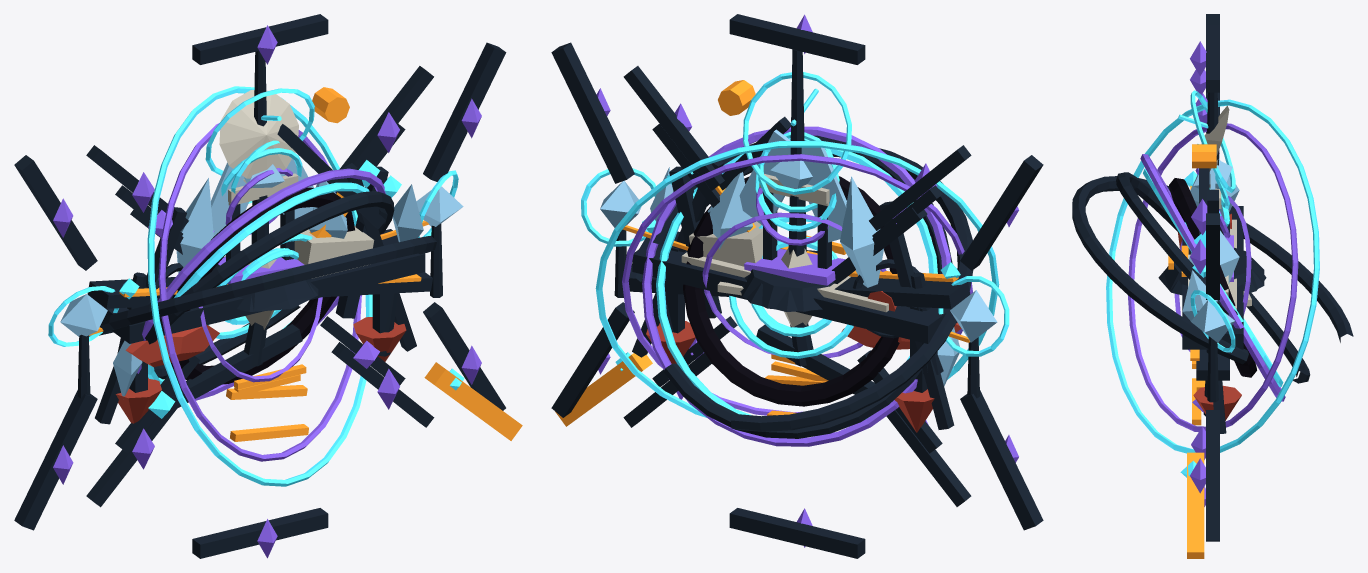
File: outer-route-landmarks-v1-CsTtabCb.glb
3 views of the same model, side by side, from view 1: azimuth 30°, elevation 25°; view 2: azimuth 150°, elevation 25°; view 3: azimuth 270°, elevation 25° (orthographic). The views are drawn at different scales.
Parts seen in each view (by area): view 1: OuterRoute_finale_core_Static_structure, OuterRoute_neptune_Static_structure, OuterRoute_saturn_Static_structure, OuterRoute_ufo_black_hole_Static_structure, OuterRoute_finale_core_Spin_signal, OuterRoute_jupiter_Static_structure, OuterRoute_ufo_black_hole_Spin_violet, OuterRoute_uranus_Spin_ivory, OuterRoute_asteroid_belt_Static_structure, OuterRoute_finale_core_Spin_violet, OuterRoute_finale_core_Static_void, OuterRoute_kuiper_belt_Static_ice (+26 smaller); view 2: OuterRoute_finale_core_Static_structure, OuterRoute_saturn_Static_structure, OuterRoute_neptune_Static_structure, OuterRoute_finale_core_Static_void, OuterRoute_ufo_black_hole_Static_structure, OuterRoute_jupiter_Static_structure, OuterRoute_finale_core_Spin_violet, OuterRoute_finale_core_Spin_signal, OuterRoute_charon_Static_ice, OuterRoute_ufo_black_hole_Spin_violet, OuterRoute_asteroid_belt_Static_structure, OuterRoute_uranus_Static_structure (+24 smaller); view 3: OuterRoute_saturn_Static_structure, OuterRoute_finale_core_Spin_signal, OuterRoute_ufo_black_hole_Spin_violet, OuterRoute_finale_core_Static_structure, OuterRoute_neptune_Static_structure, OuterRoute_finale_core_Spin_violet, OuterRoute_finale_core_Static_hazard, OuterRoute_uranus_Static_structure, OuterRoute_finale_core_Static_void, OuterRoute_finale_core_Static_violet, OuterRoute_jupiter_Static_structure, OuterRoute_kuiper_belt_Static_ice (+14 smaller).
Part boxes in pixels (<box>): OuterRoute_finale_core_Static_structure: <box>14,14,506,558</box>; OuterRoute_neptune_Static_structure: <box>130,166,394,411</box>; OuterRoute_saturn_Static_structure: <box>89,163,436,424</box>; OuterRoute_ufo_black_hole_Static_structure: <box>86,66,434,507</box>; OuterRoute_finale_core_Spin_signal: <box>147,86,372,486</box>; OuterRoute_jupiter_Static_structure: <box>99,229,425,392</box>; OuterRoute_ufo_black_hole_Spin_violet: <box>158,123,361,461</box>; OuterRoute_uranus_Spin_ivory: <box>219,90,298,178</box>; OuterRoute_asteroid_belt_Static_structure: <box>87,272,432,371</box>; OuterRoute_finale_core_Spin_violet: <box>137,168,385,400</box>; OuterRoute_finale_core_Static_void: <box>171,187,354,384</box>; OuterRoute_kuiper_belt_Static_ice: <box>60,164,463,336</box>; OuterRoute_finale_core_Static_structure: <box>551,14,1043,558</box>; OuterRoute_saturn_Static_structure: <box>629,148,973,431</box>; OuterRoute_neptune_Static_structure: <box>653,135,952,438</box>; OuterRoute_finale_core_Static_void: <box>683,176,899,406</box>; OuterRoute_ufo_black_hole_Static_structure: <box>623,66,971,506</box>; OuterRoute_jupiter_Static_structure: <box>632,231,957,392</box>; OuterRoute_finale_core_Spin_violet: <box>642,126,950,446</box>; OuterRoute_finale_core_Spin_signal: <box>595,140,999,419</box>; OuterRoute_charon_Static_ice: <box>707,172,883,287</box>; OuterRoute_ufo_black_hole_Spin_violet: <box>622,154,972,415</box>; OuterRoute_asteroid_belt_Static_structure: <box>628,272,970,374</box>; OuterRoute_uranus_Static_structure: <box>741,49,833,311</box>; OuterRoute_saturn_Static_structure: <box>1072,176,1353,433</box>; OuterRoute_finale_core_Spin_signal: <box>1106,99,1319,453</box>; OuterRoute_ufo_black_hole_Spin_violet: <box>1128,123,1298,431</box>; OuterRoute_finale_core_Static_structure: <box>1206,14,1219,541</box>; OuterRoute_neptune_Static_structure: <box>1116,132,1310,383</box>; OuterRoute_finale_core_Spin_violet: <box>1140,154,1285,401</box>; OuterRoute_finale_core_Static_hazard: <box>1187,452,1204,558</box>; OuterRoute_uranus_Static_structure: <box>1164,92,1266,292</box>; OuterRoute_finale_core_Static_void: <box>1169,178,1256,377</box>; OuterRoute_finale_core_Static_violet: <box>1190,41,1206,506</box>; OuterRoute_jupiter_Static_structure: <box>1182,206,1243,397</box>; OuterRoute_kuiper_belt_Static_ice: <box>1191,160,1234,342</box>.
Size of the model in its own units: 8.62 by 8.98 by 4.84.
